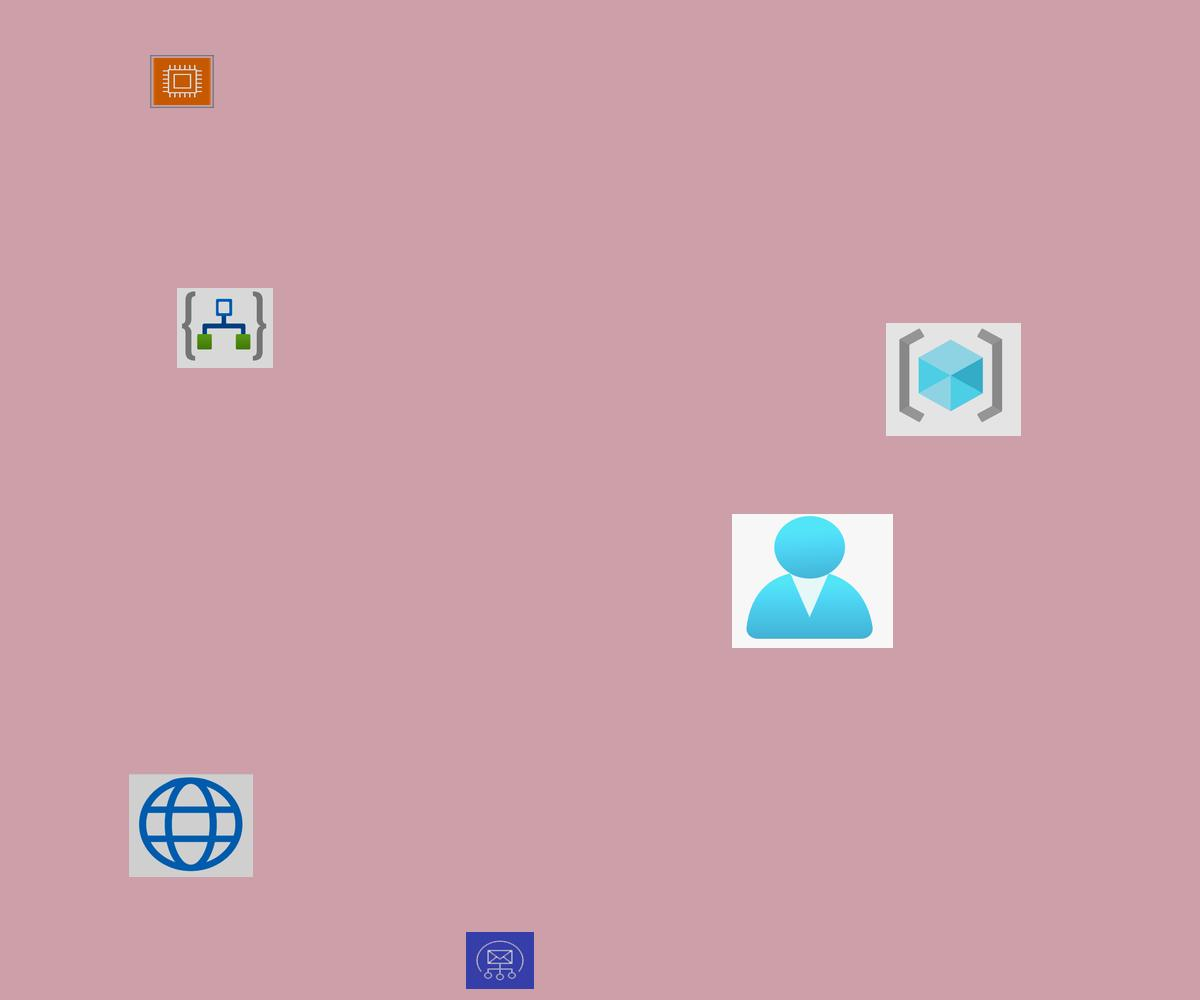AWS-Category_Compute: (150, 55, 214, 108)
AWS-Simple-Email-Service: (466, 932, 534, 989)
Azure_http: (129, 774, 253, 877)
Azure_integration-204-Logic-Apps: (177, 288, 273, 368)
Azure_resource_group: (886, 323, 1021, 436)
Azure_users: (732, 514, 893, 648)
